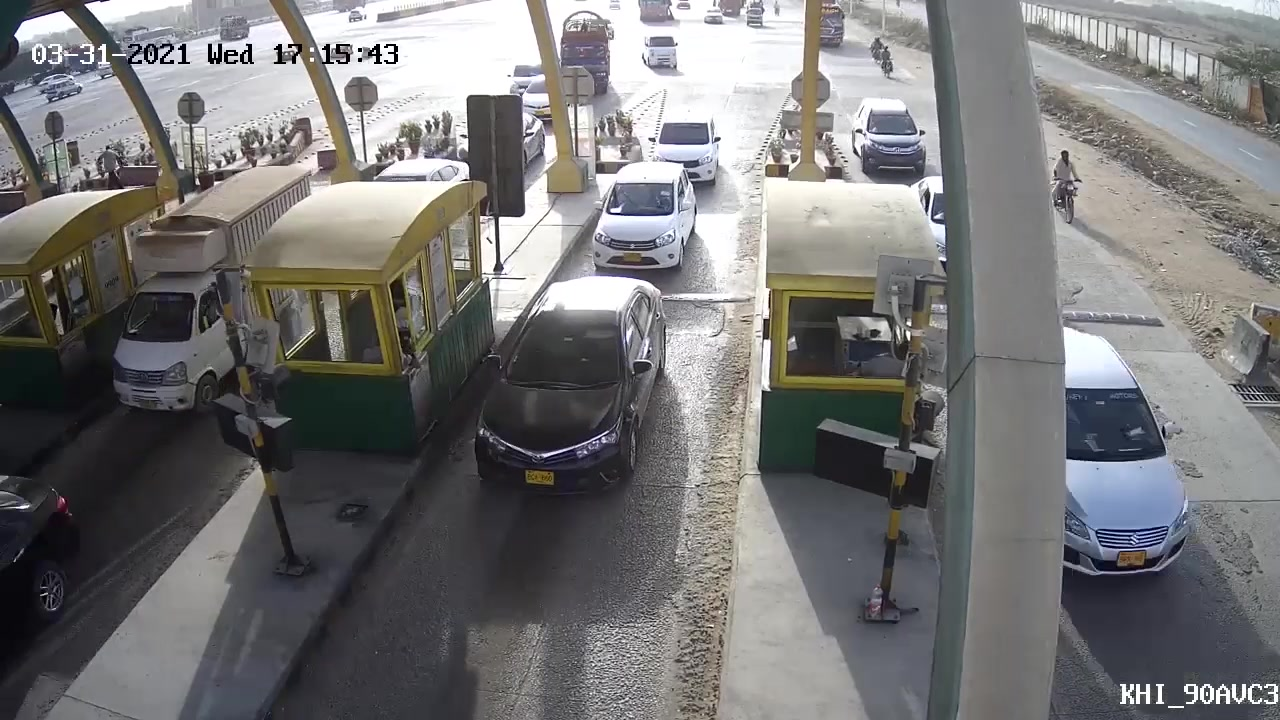F1: (453, 277, 672, 516), (586, 153, 698, 277)
